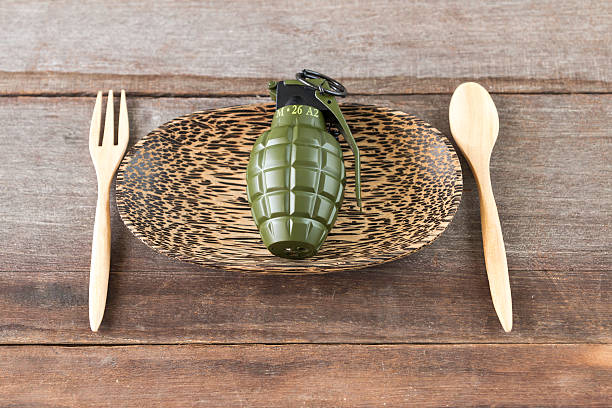e1: (245, 68, 362, 261)
